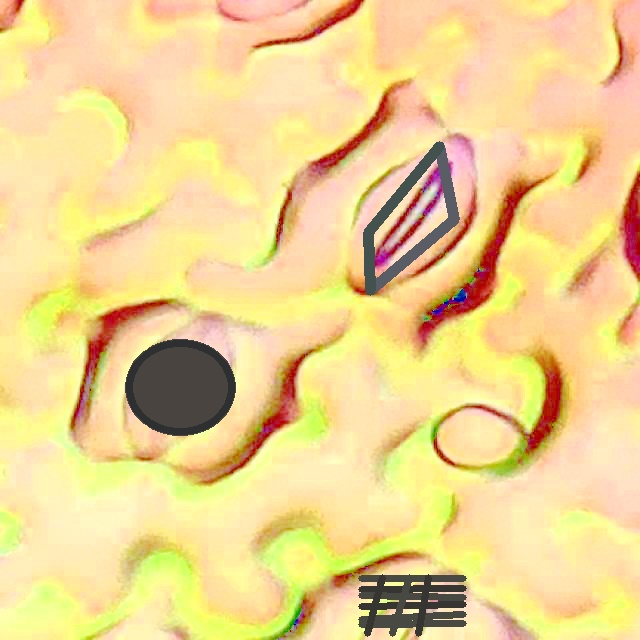open: (363, 141, 459, 295), (125, 339, 235, 434), (358, 574, 466, 636)
